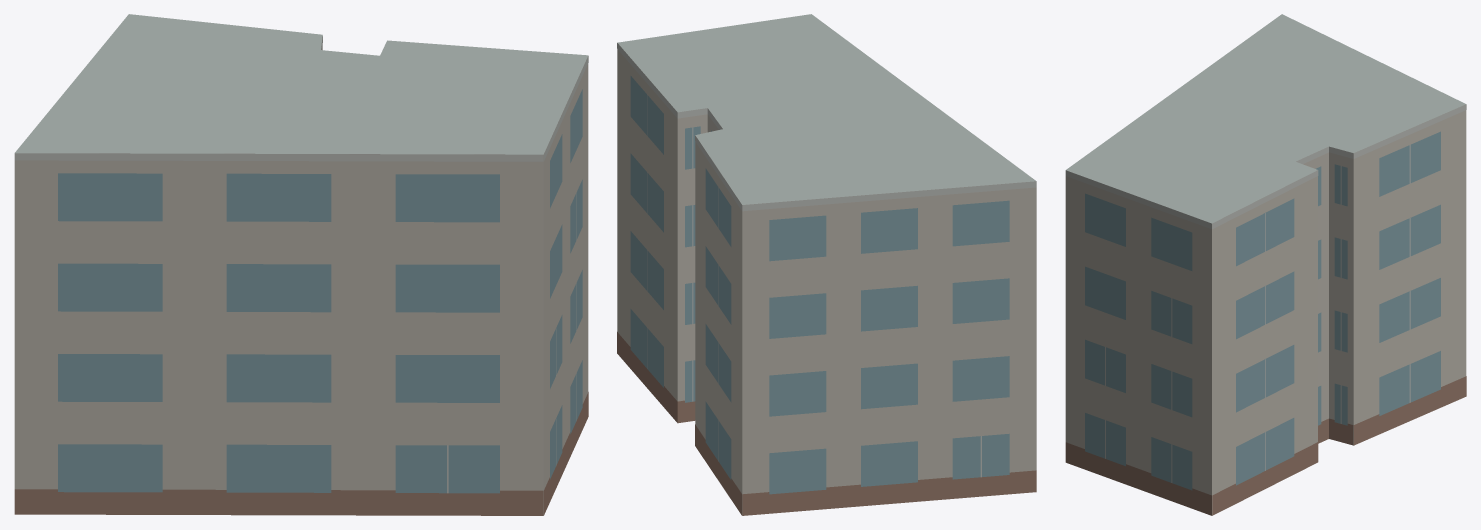
The model's file is survey-upis-32482022.glb.
3 views of the same model, side by side, from view 1: azimuth 30°, elevation 25°; view 2: azimuth 150°, elevation 25°; view 3: azimuth 270°, elevation 25° (orthographic). The views are drawn at different scales.
Parts seen in each view (by area): view 1: survey-upis-32482022.tmp; view 2: survey-upis-32482022.tmp; view 3: survey-upis-32482022.tmp.
Part boxes in pixels (x1=…): survey-upis-32482022.tmp: x1=14, y1=14, x2=588, y2=515; survey-upis-32482022.tmp: x1=617, y1=14, x2=1036, y2=515; survey-upis-32482022.tmp: x1=1065, y1=14, x2=1466, y2=515.
Bounding box in the file's own units: 18.76 × 12.2 × 15.17.
